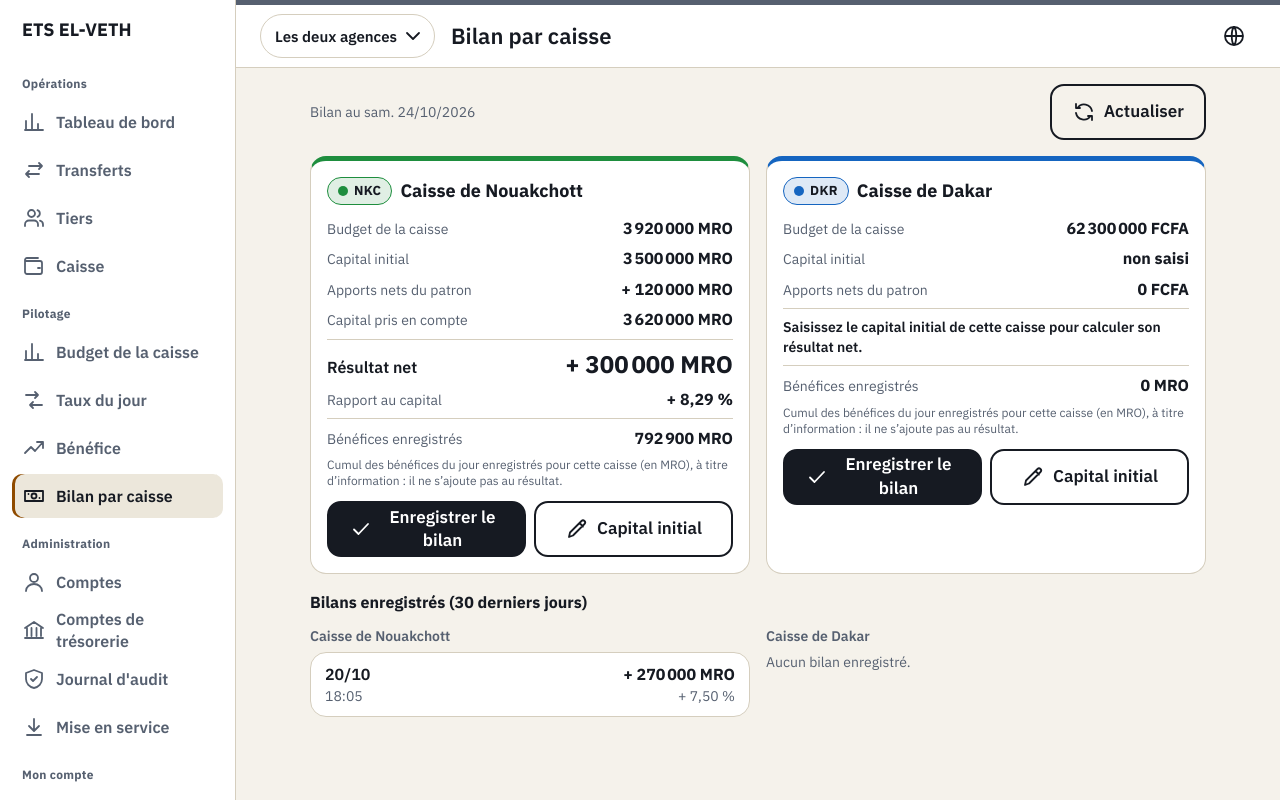
Test case: Bilan par caisse — Superviseur › saisit le capital initial d’une caisse, dans sa devise
Step 1. Click the button "Capital initial" below "non saisi" → [1090, 477], box [990, 449, 1189, 505]
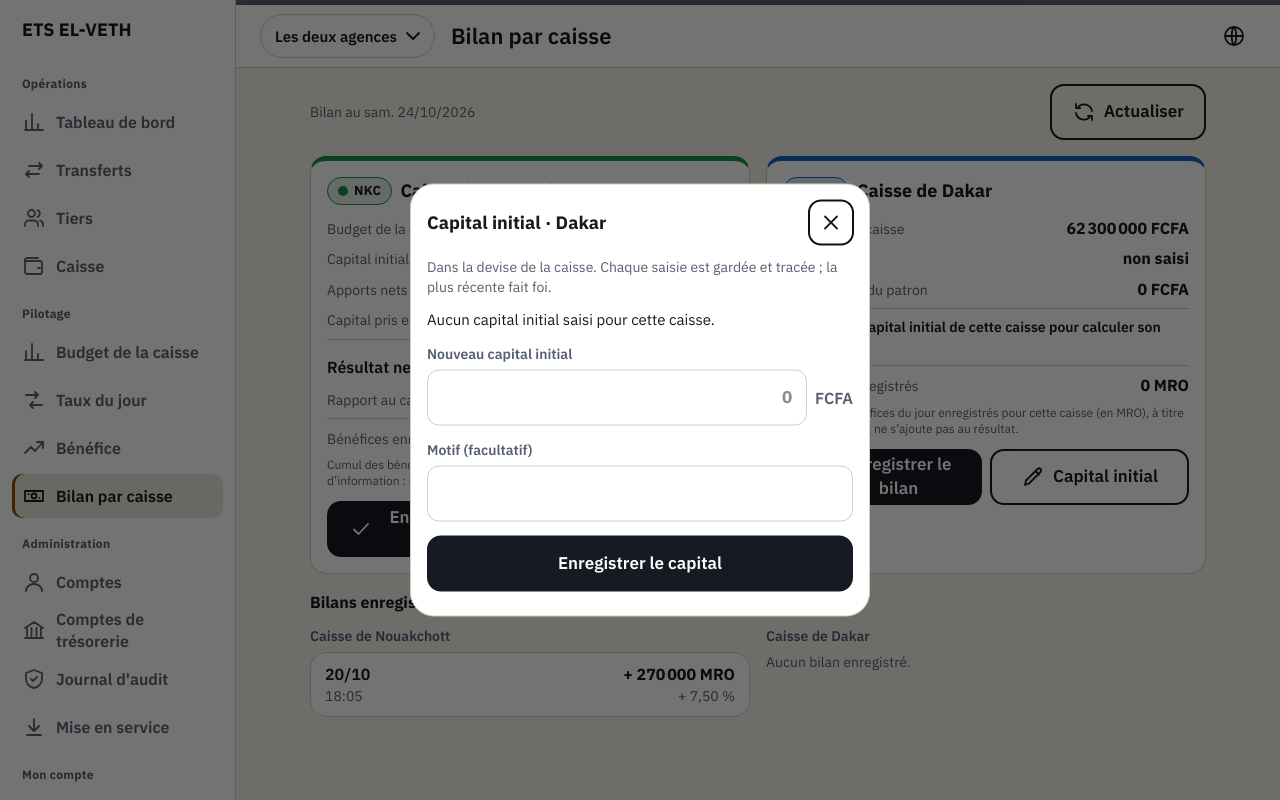
Expected: the text "Aucun capital initial saisi pour cette caisse." is shown, [427, 310, 715, 328]
Step 2. Type "58000000,5" into the field labelled "Nouveau capital initial" → [617, 398], box [427, 370, 807, 426]
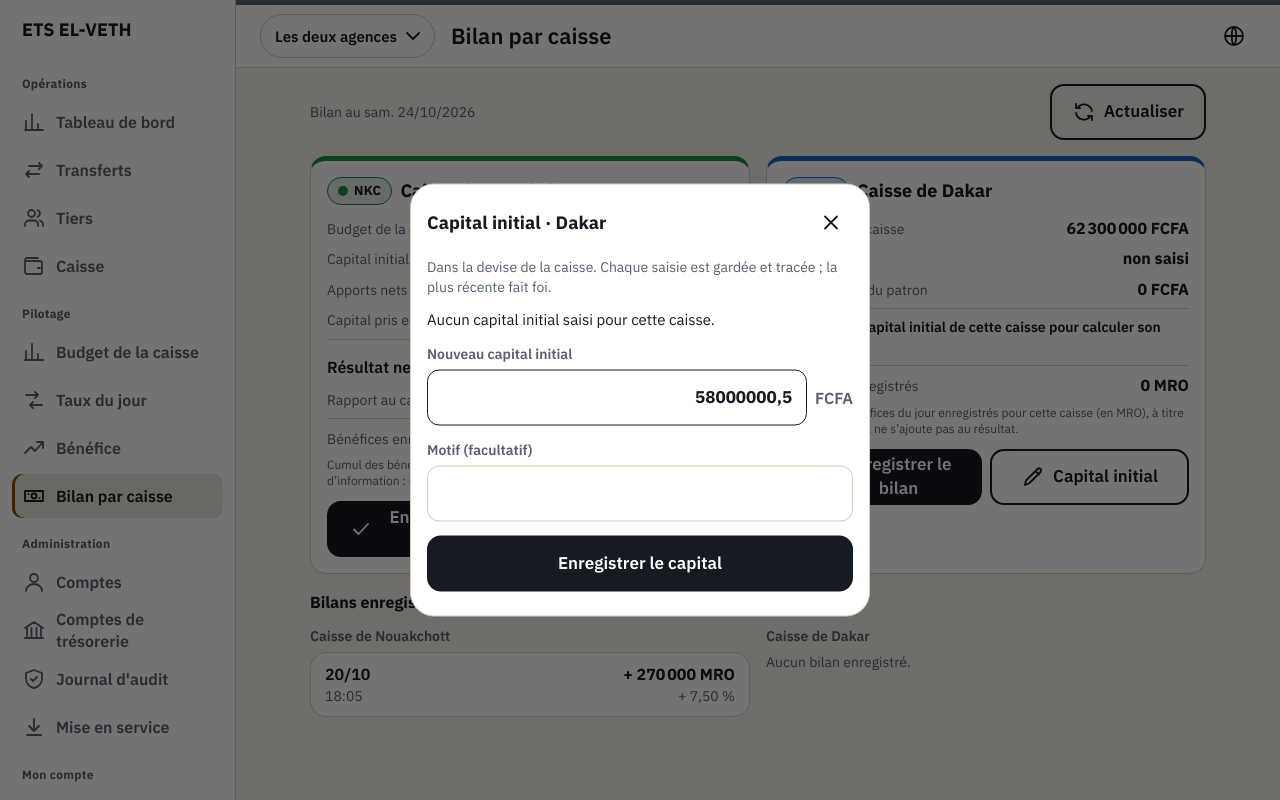
Step 3. Click the button "Enregistrer le capital" → [640, 564], box [427, 536, 853, 592]
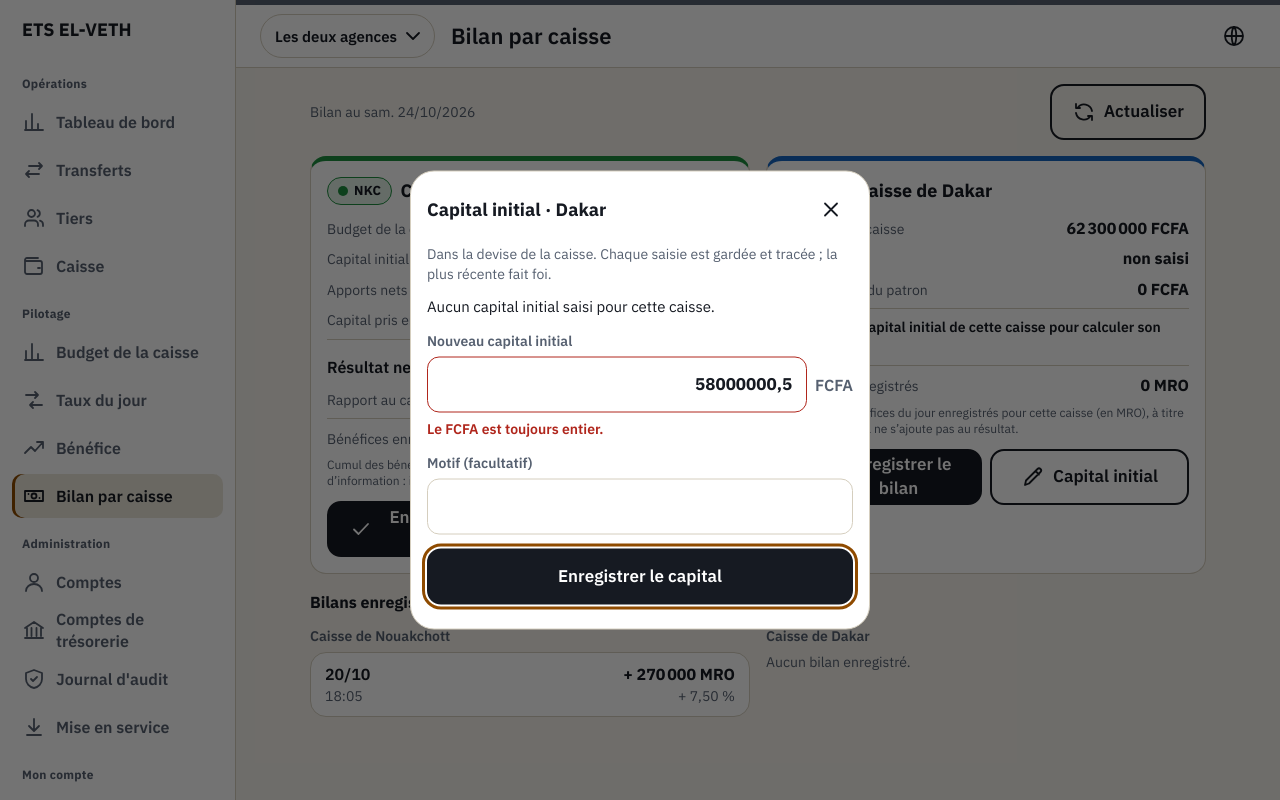
Expected: the text "Le FCFA est toujours entier." is shown, [427, 420, 604, 438]
Step 4. Replace the text in the field labelled "Nouveau capital initial" with "58000000" → [617, 384], box [427, 356, 807, 412]
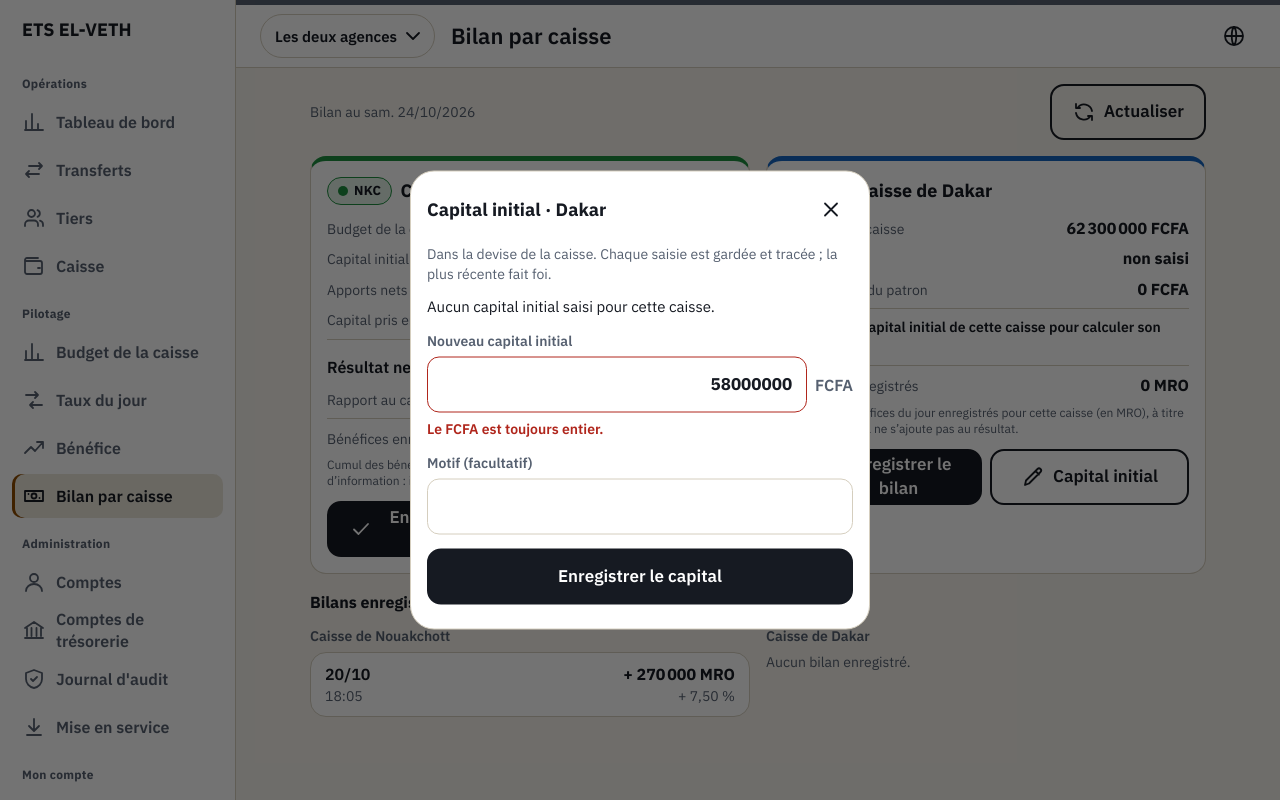
Step 5. Type "Mise en service" into the field labelled "Motif (facultatif)" → [640, 506], box [428, 480, 852, 532]
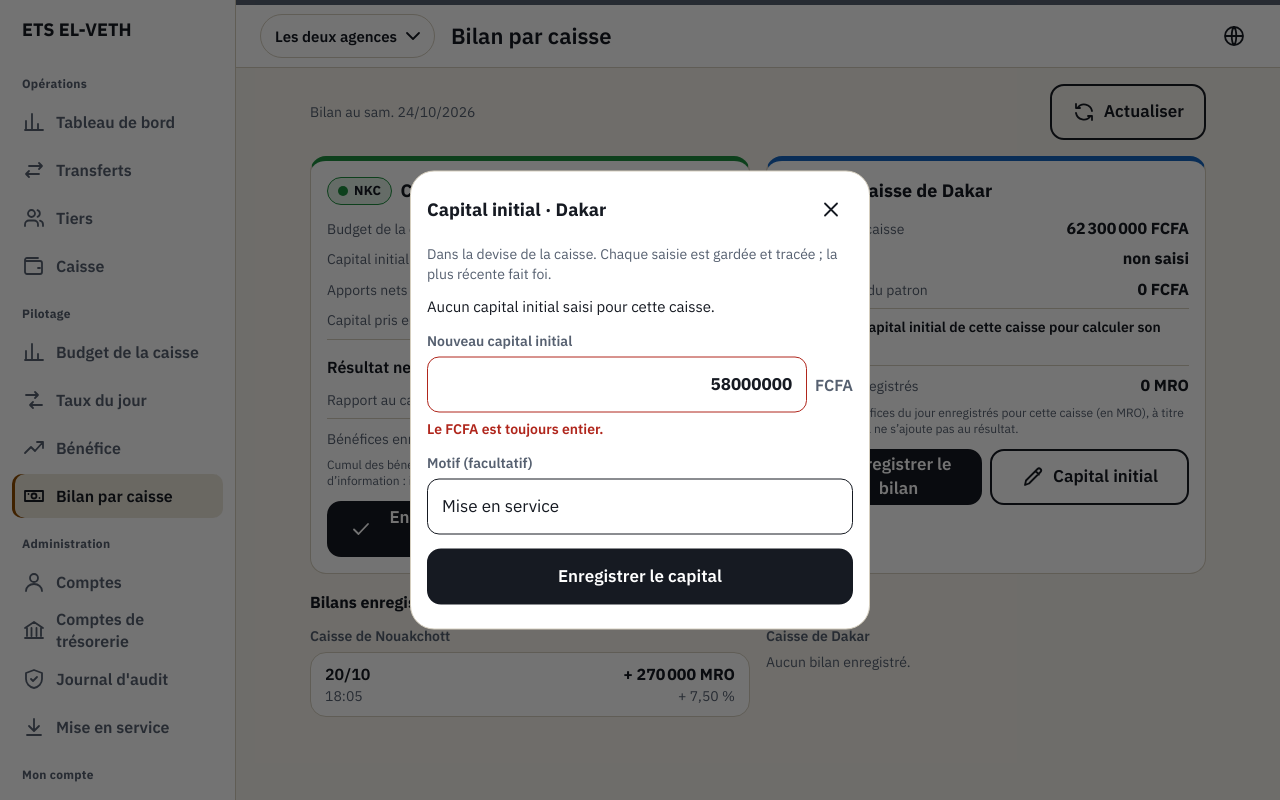
Step 6. Click the button "Enregistrer le capital" → [640, 576], box [427, 548, 853, 604]
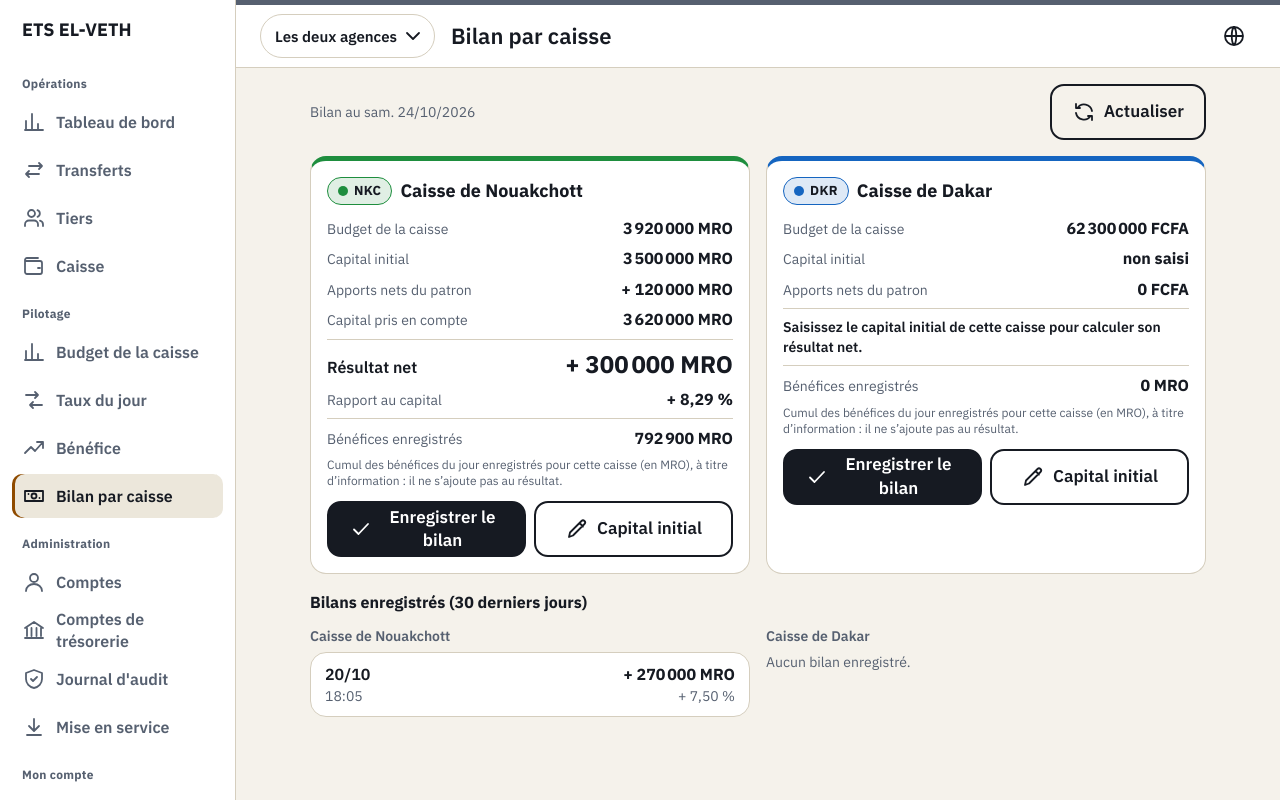
Expected: the dialog is gone
